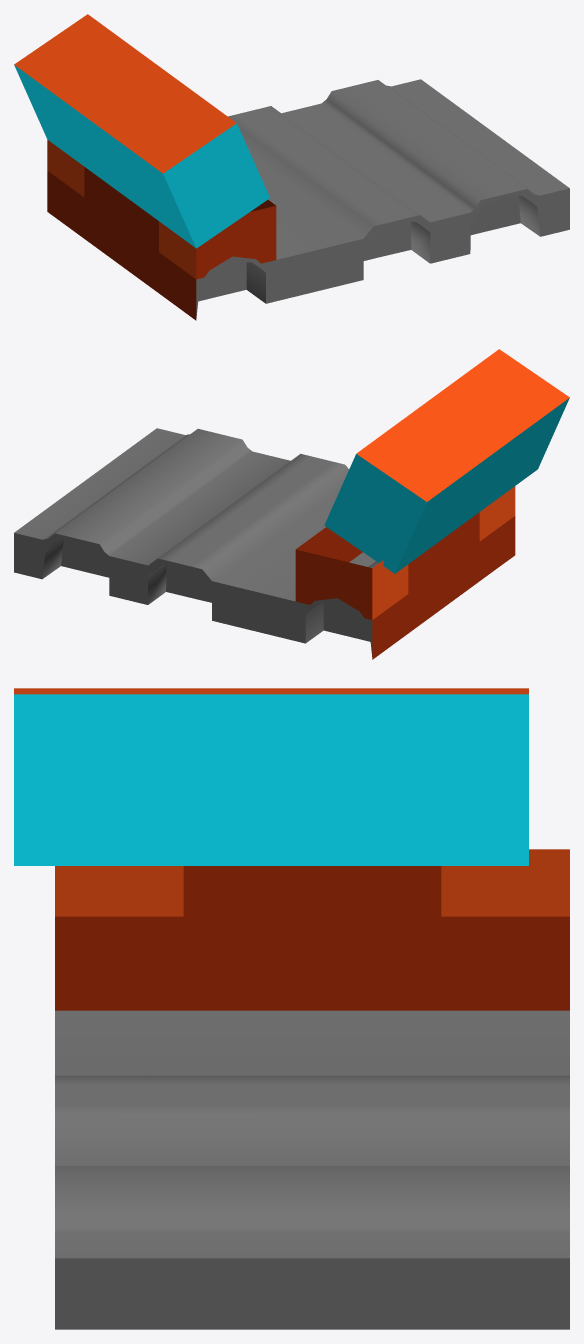
File: Body.fbx
3 views of the same model, one above another, from view 1: azimuth 30°, elevation 25°; view 2: azimuth 150°, elevation 25°; view 3: azimuth 270°, elevation 25° (orthographic). The views are drawn at different scales.
Parts seen in each view (by area): view 1: Body; view 2: Body; view 3: Body.
Part boxes in pixels (<box>): Body: <box>14,14,569,320</box>; Body: <box>14,349,569,659</box>; Body: <box>14,688,569,1329</box>.
Bounding box in the file's own units: 1193 × 543 × 794.
